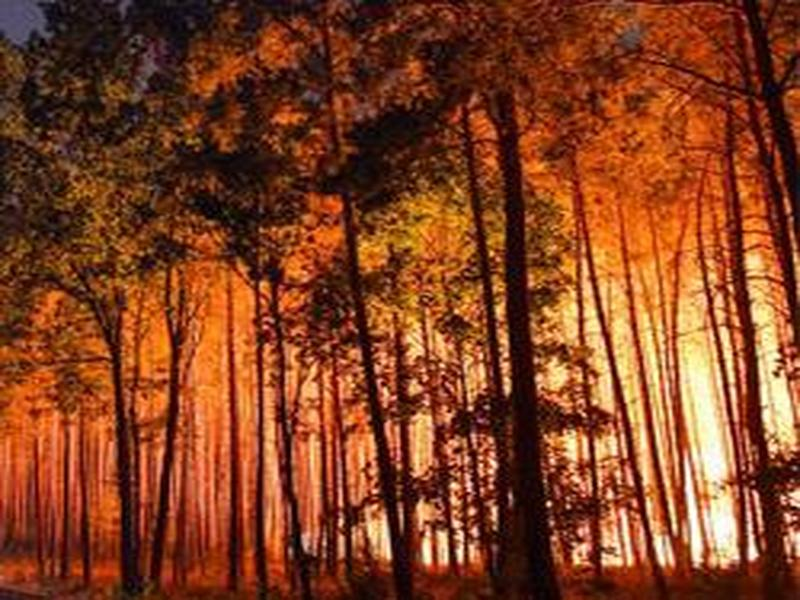FIRE: (38, 312, 798, 594)
